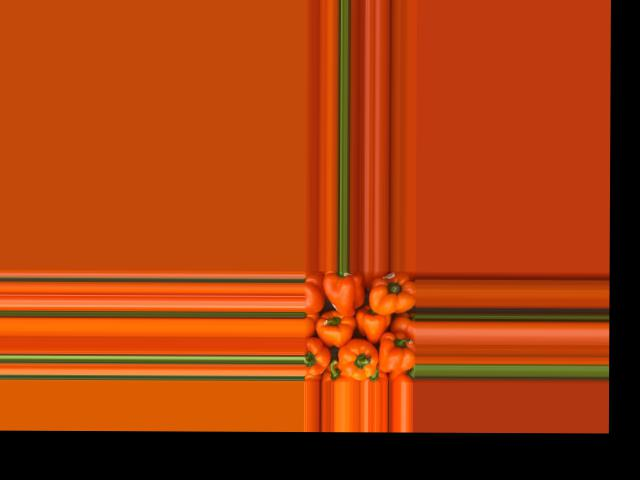bell_pepper: (305, 269, 323, 314)
